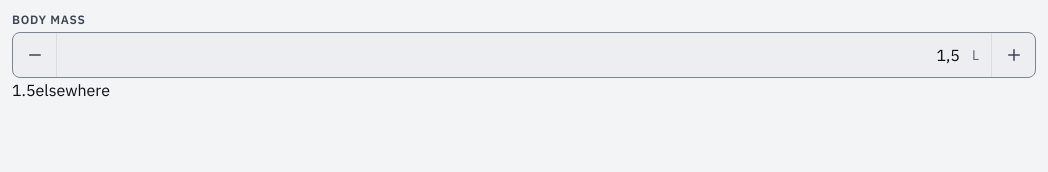
NumberField › reads and writes numbers in the UI language
This screenshot has width=1048, height=172.
Replace the text in the number field labelled "Body mass" with "2,25" at (514, 55), box [57,33,972,77]
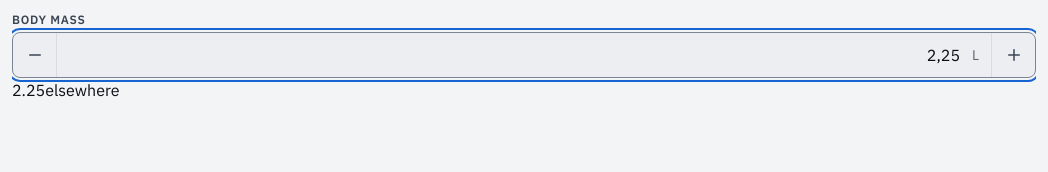
Expected: the button named "Body mass erhöhen" is shown, [991,33,1035,77]
Now the text with test id "stored" reads "2.25", box [12,80,45,100]
